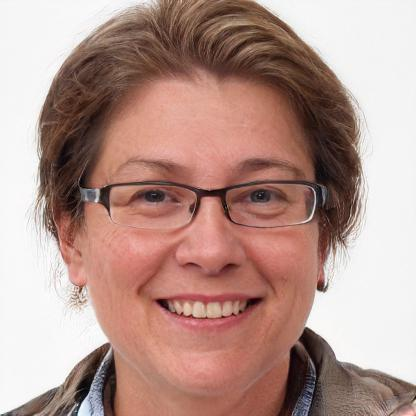glasses: (87, 178, 324, 231)
